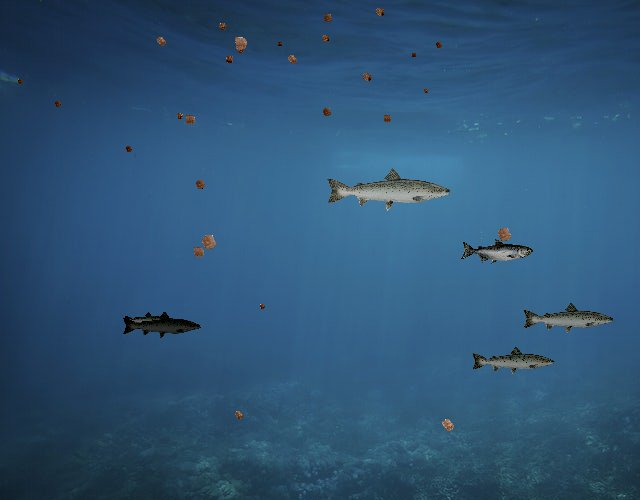Fish: (324, 166, 453, 212), (521, 302, 615, 336), (470, 345, 556, 376), (122, 311, 203, 340), (461, 239, 534, 265), (123, 312, 170, 329)
Pellet: (194, 226, 224, 256), (434, 412, 461, 439), (187, 240, 210, 263), (370, 3, 389, 22), (230, 406, 248, 424), (172, 109, 187, 124), (122, 142, 136, 156), (256, 301, 268, 313)
